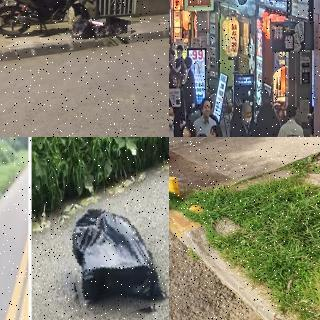Garbage: (63, 196, 164, 320), (69, 17, 93, 40), (106, 17, 131, 37), (92, 23, 113, 41)
